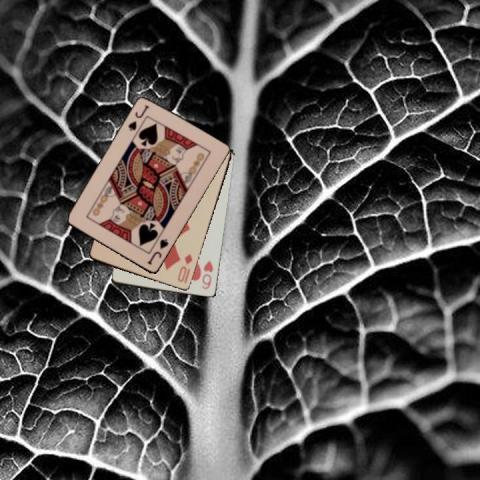10d: (175, 252, 194, 284)
6h: (198, 257, 214, 291)
Js: (144, 236, 170, 267), (125, 102, 151, 133)
